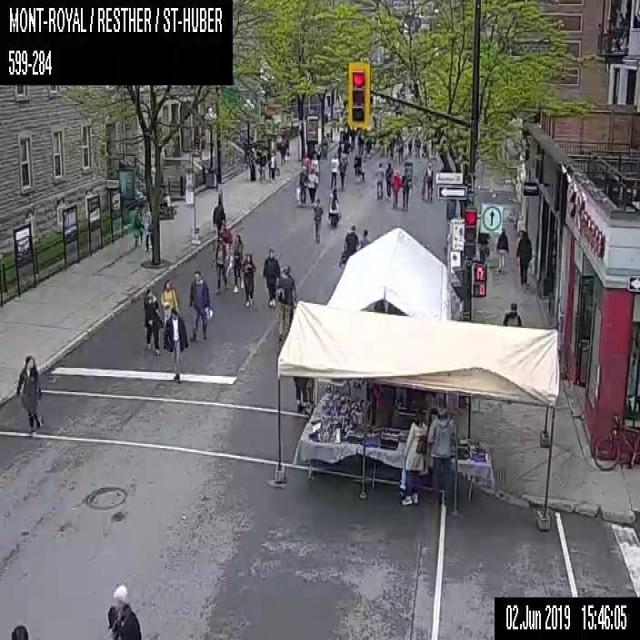pedestrian: (427, 406, 456, 515), (398, 410, 428, 506), (16, 354, 44, 430), (106, 582, 141, 638), (163, 308, 187, 382), (188, 269, 212, 340), (142, 288, 162, 355), (276, 265, 291, 340), (262, 248, 280, 306), (211, 236, 228, 292), (339, 223, 358, 270), (515, 231, 531, 284), (230, 233, 243, 293), (242, 253, 256, 306), (160, 278, 178, 317), (493, 225, 508, 271), (293, 375, 308, 413), (311, 197, 323, 244), (142, 205, 153, 252), (212, 200, 225, 239), (400, 168, 412, 210), (328, 186, 340, 228), (421, 161, 433, 201), (130, 205, 142, 245), (502, 300, 521, 325), (476, 231, 490, 261), (296, 165, 306, 206), (328, 151, 338, 191), (307, 166, 318, 202), (390, 169, 400, 207), (267, 150, 279, 181), (257, 150, 267, 180), (278, 135, 288, 164), (375, 162, 383, 198), (384, 162, 392, 197), (248, 147, 256, 180), (220, 228, 232, 249), (338, 156, 346, 187), (342, 138, 352, 162), (355, 166, 364, 192), (11, 624, 26, 639), (359, 228, 370, 248), (353, 149, 361, 175), (396, 136, 404, 162), (356, 128, 364, 153), (300, 152, 310, 169), (310, 152, 318, 172), (413, 136, 420, 158), (321, 134, 328, 154), (349, 125, 355, 148), (421, 141, 428, 159), (406, 136, 412, 154), (365, 138, 371, 155), (336, 140, 341, 157)
